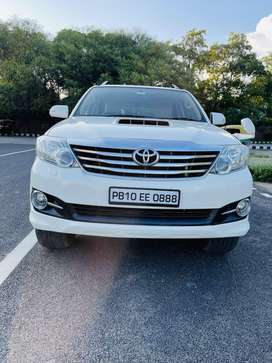PB10EE0888: (109, 187, 181, 203)
